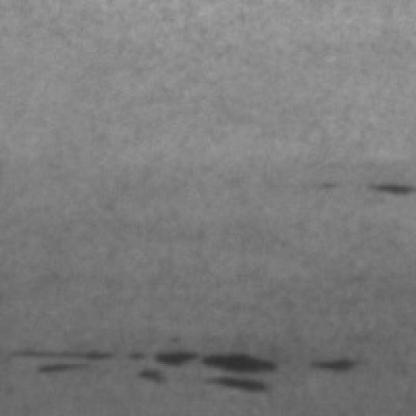inclusion: (0, 341, 281, 393), (304, 346, 360, 378), (345, 171, 414, 195)
